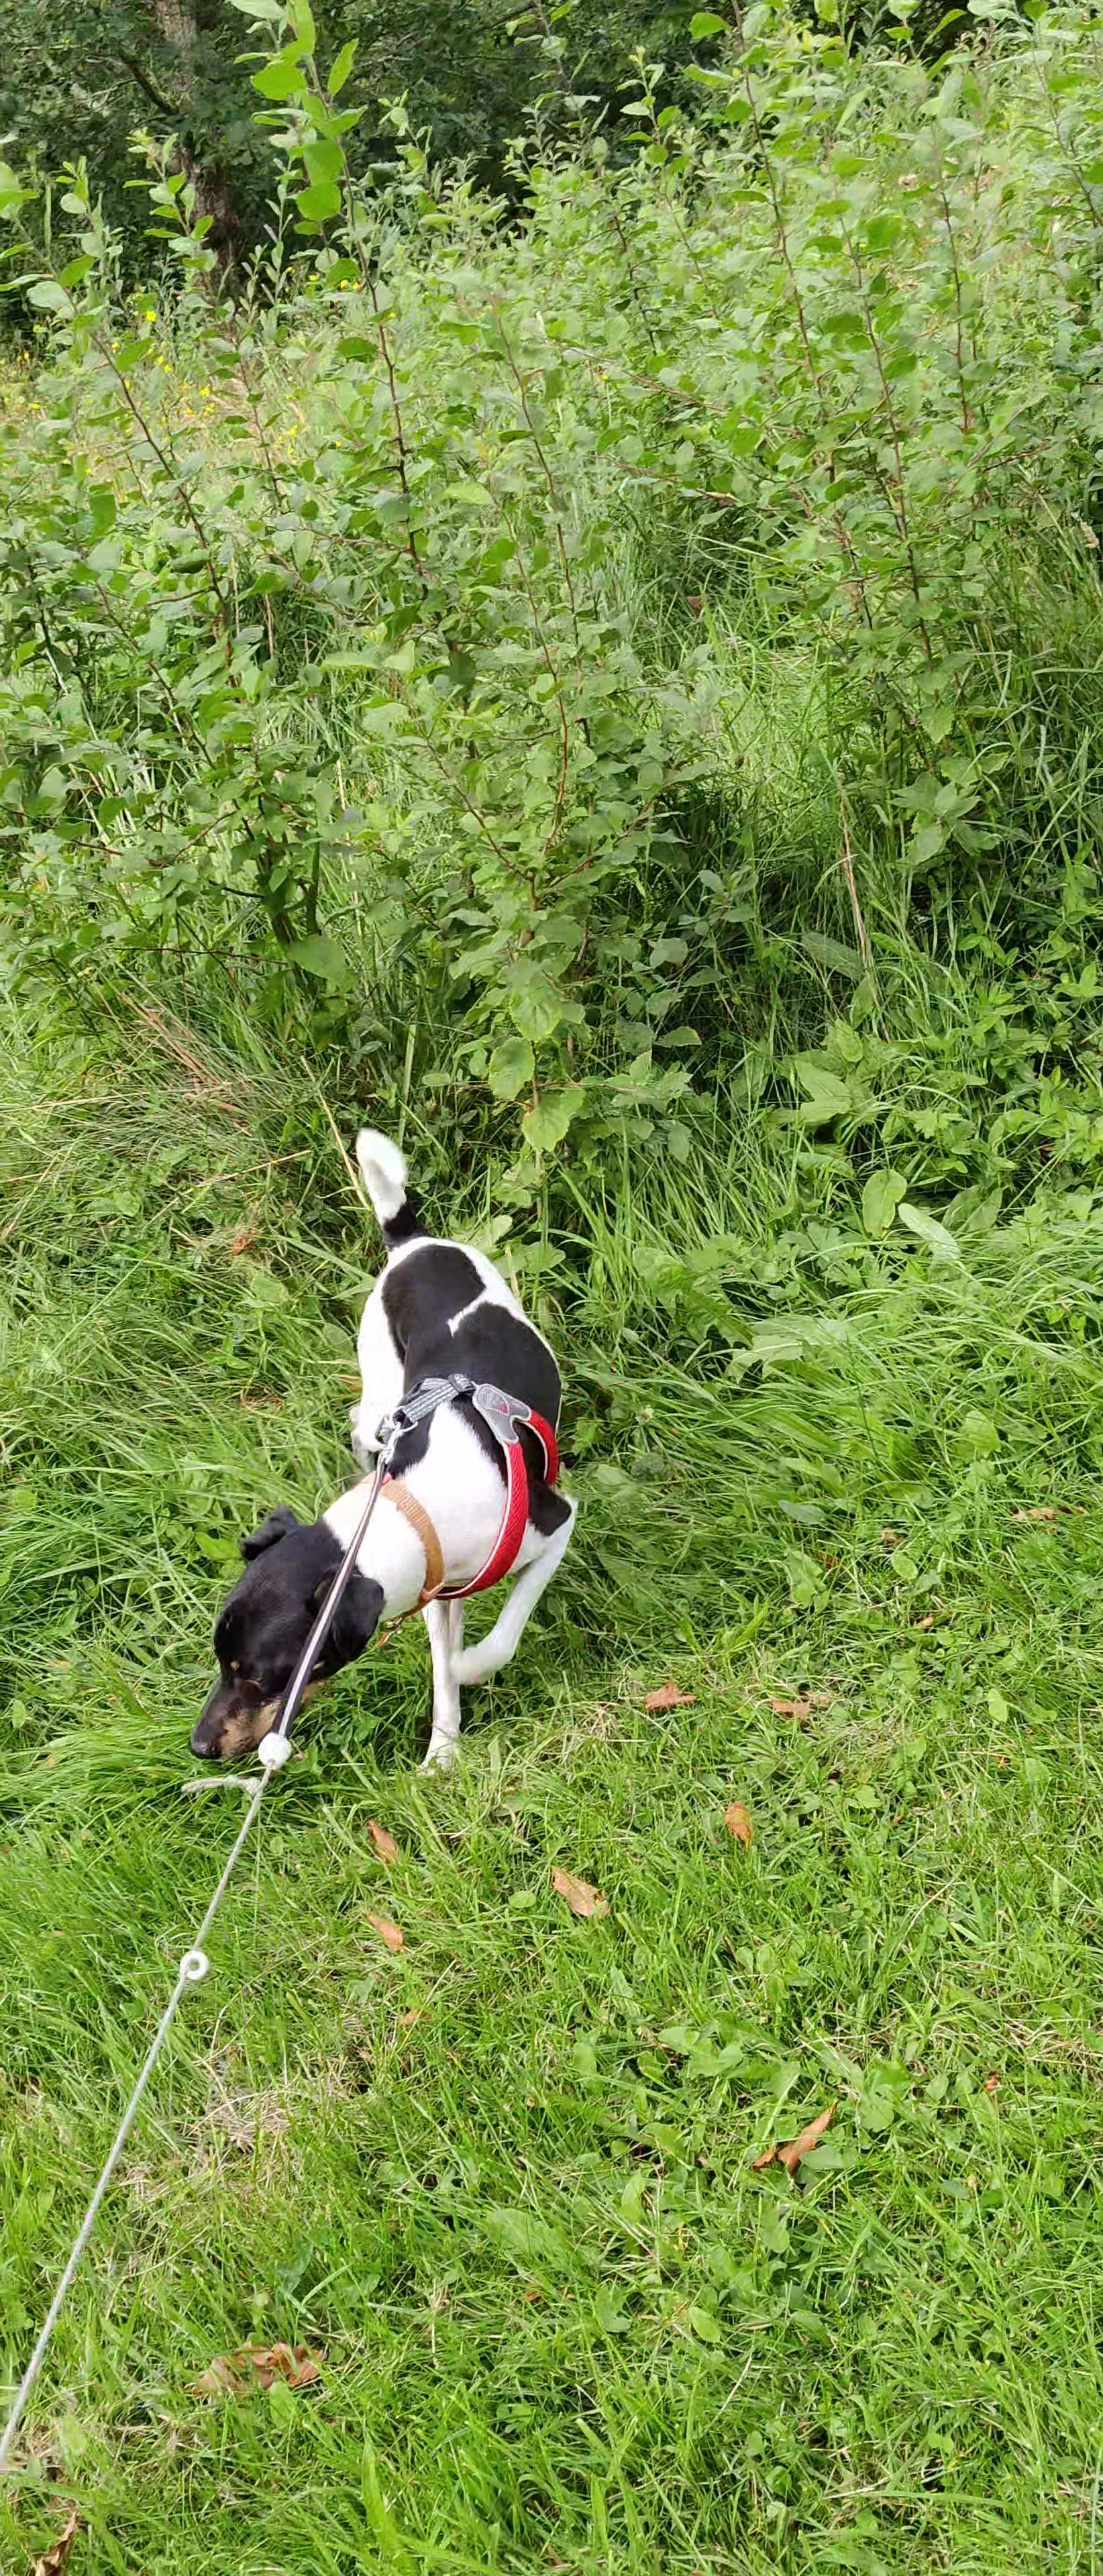Dog: (164, 1097, 628, 1810)
